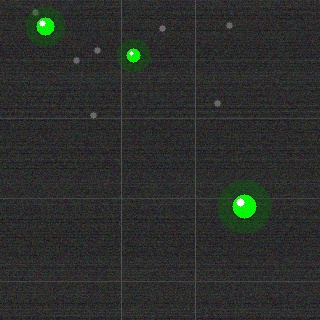green_normal: (230, 192, 258, 220), (34, 15, 56, 37), (124, 46, 142, 64)
